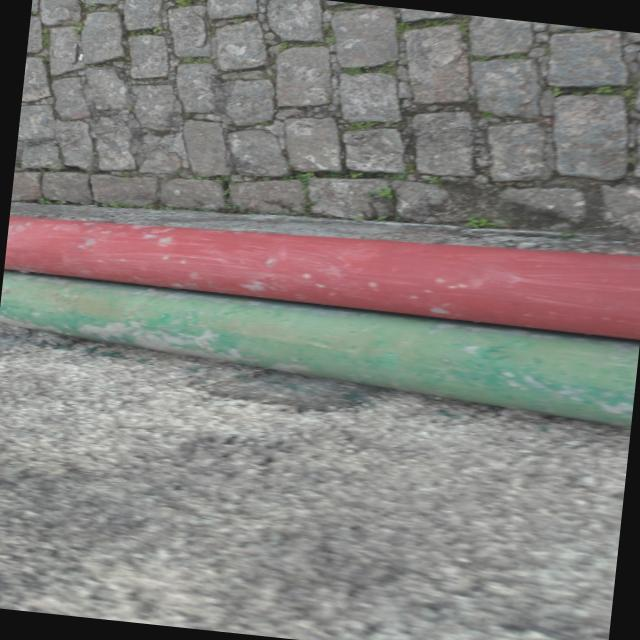gas: (0, 274, 638, 433), (3, 188, 640, 341)
